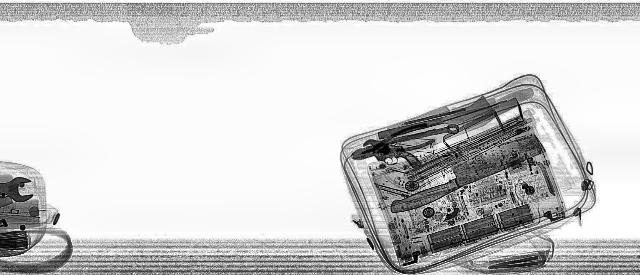Gun: (358, 135, 427, 175)
Knife: (357, 132, 568, 216)
Pliers: (329, 122, 451, 162)
Wrench: (354, 121, 471, 155)
